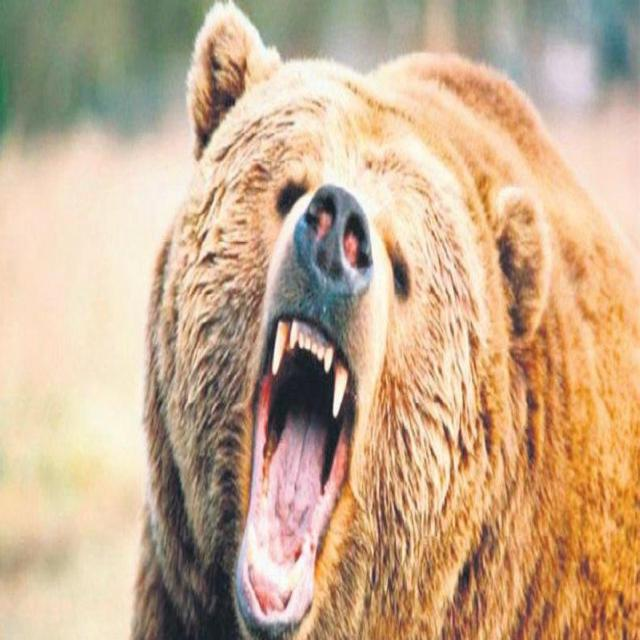Bear: (129, 0, 640, 640)
